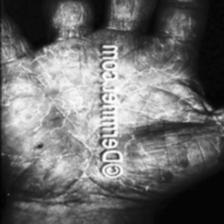Non-Cancerous Skin Condition: (7, 71, 78, 180), (138, 77, 198, 169), (20, 184, 120, 216), (168, 0, 185, 62), (206, 112, 224, 158), (0, 28, 19, 57)
